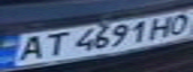1: (127, 18, 154, 44)
4: (72, 26, 96, 53)
6: (90, 24, 115, 52)
9: (109, 21, 133, 48)
A: (9, 34, 51, 64)
H: (145, 14, 181, 39)
O: (163, 11, 193, 35)
T: (36, 29, 72, 58)
